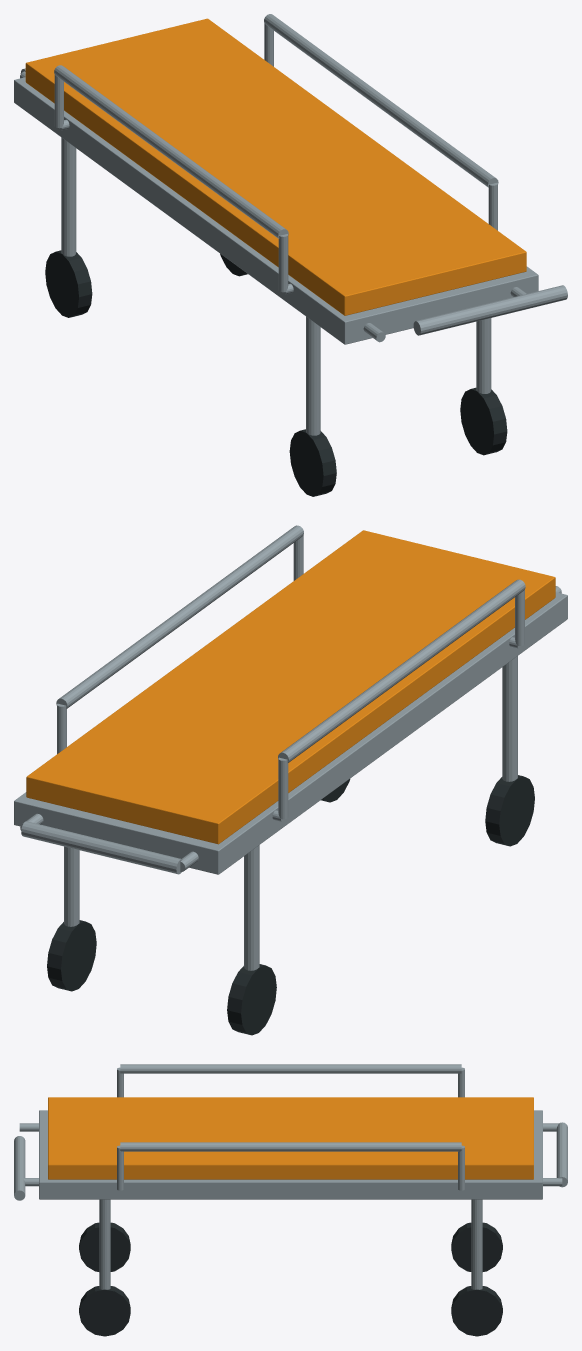
File: source-edit.glb
3 renders of one model, top to bottom at view 1: azimuth 30°, elevation 25°; view 2: azimuth 150°, elevation 25°; view 3: azimuth 270°, elevation 25°, orthographic. The views are drawn at different scales.
Parts seen in each view (by area): view 1: Thin_Pad, Transport_Frame, Side_Rail, Side_Rail.001, Caster.001, Caster.002, Caster.003, Carry_Handle.001, Leg.001, Leg, Leg.002, Rail_Brace; view 2: Thin_Pad, Transport_Frame, Side_Rail, Side_Rail.001, Caster, Caster.002, Caster.001, Carry_Handle, Leg.001, Leg, Leg.003, Rail_Brace.001; view 3: Thin_Pad, Transport_Frame, Side_Rail, Side_Rail.001, Caster, Caster.003, Caster.001, Caster.002, Leg.002, Leg.003, Carry_Handle.001, Carry_Handle.
Part boxes in pixels (bbox=[...]): Thin_Pad: bbox=[25, 18, 526, 315]; Transport_Frame: bbox=[14, 77, 538, 344]; Side_Rail: bbox=[54, 65, 288, 238]; Side_Rail.001: bbox=[264, 14, 498, 187]; Caster.001: bbox=[289, 429, 336, 496]; Caster.002: bbox=[45, 250, 92, 317]; Caster.003: bbox=[460, 387, 507, 455]; Carry_Handle.001: bbox=[413, 285, 567, 335]; Leg.001: bbox=[61, 137, 76, 256]; Leg: bbox=[306, 316, 320, 435]; Leg.002: bbox=[476, 318, 491, 393]; Rail_Brace: bbox=[278, 234, 288, 292]; Thin_Pad: bbox=[26, 530, 555, 844]; Transport_Frame: bbox=[14, 592, 567, 874]; Side_Rail: bbox=[278, 579, 525, 762]; Side_Rail.001: bbox=[56, 525, 303, 708]; Caster: bbox=[47, 920, 96, 991]; Caster.002: bbox=[227, 964, 276, 1035]; Caster.001: bbox=[485, 775, 534, 846]; Carry_Handle: bbox=[21, 821, 182, 874]; Leg.001: bbox=[244, 845, 259, 970]; Leg: bbox=[502, 656, 517, 781]; Leg.003: bbox=[64, 846, 79, 926]; Rail_Brace.001: bbox=[278, 757, 288, 819]; Thin_Pad: bbox=[48, 1097, 533, 1179]; Transport_Frame: bbox=[39, 1110, 542, 1199]; Side_Rail: bbox=[120, 1064, 461, 1073]; Side_Rail.001: bbox=[120, 1142, 461, 1151]; Caster: bbox=[451, 1286, 502, 1336]; Caster.003: bbox=[79, 1286, 130, 1336]; Caster.001: bbox=[79, 1222, 130, 1271]; Caster.002: bbox=[451, 1222, 502, 1271]; Leg.002: bbox=[99, 1199, 110, 1289]; Leg.003: bbox=[471, 1199, 482, 1289]; Carry_Handle.001: bbox=[14, 1136, 25, 1200]; Carry_Handle: bbox=[556, 1122, 567, 1187].
Size of the model in its own units: 0.7494 by 0.848 by 2.14.
